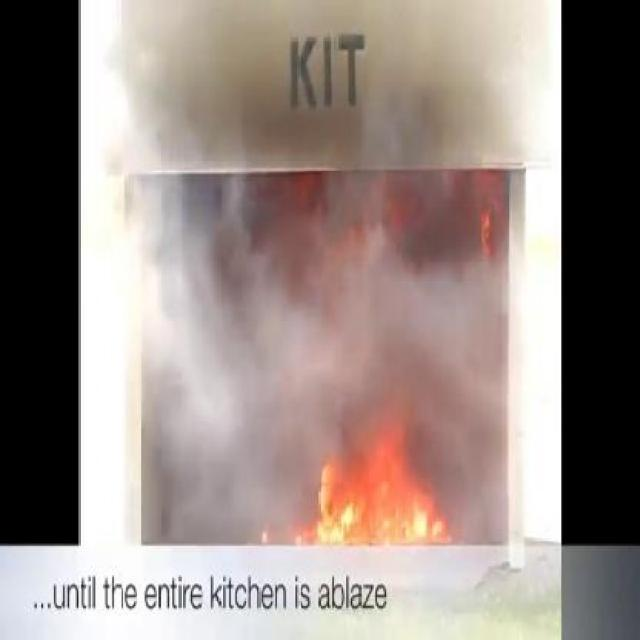fire: (298, 442, 454, 546)
smoke: (134, 192, 294, 540), (316, 276, 513, 424), (92, 19, 178, 175), (329, 208, 400, 263)
